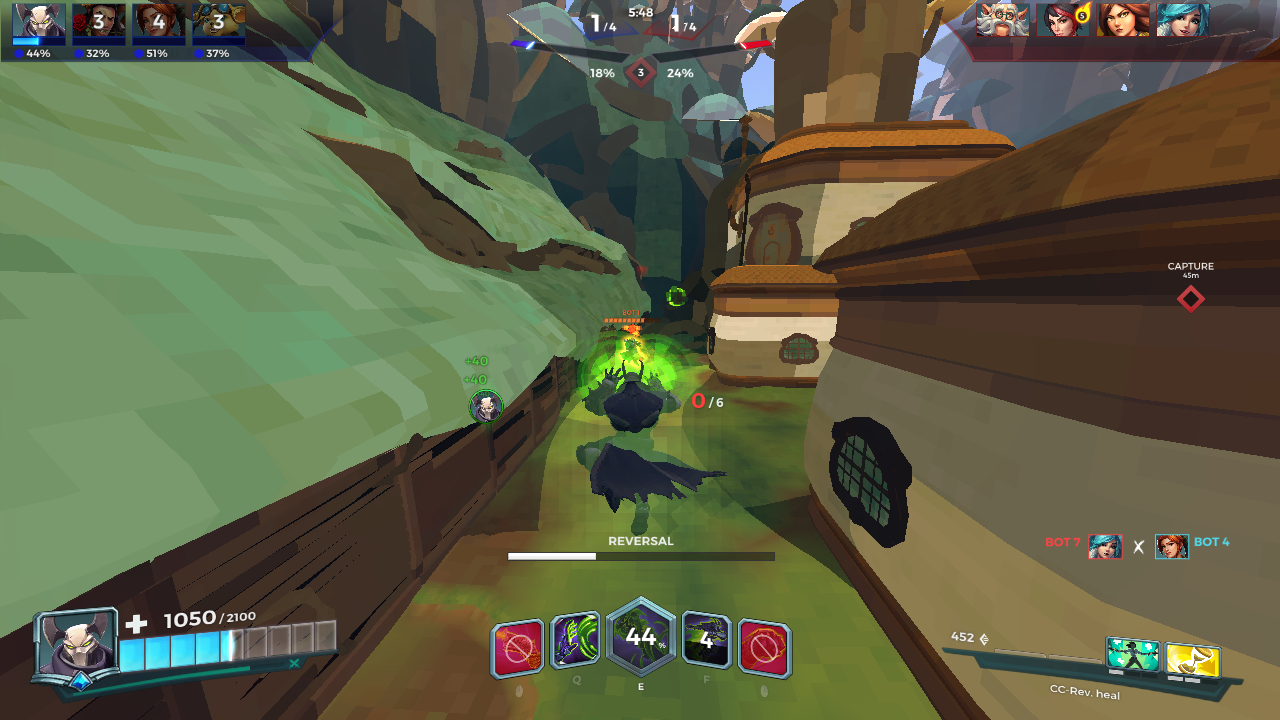model: (618, 332, 646, 372)
